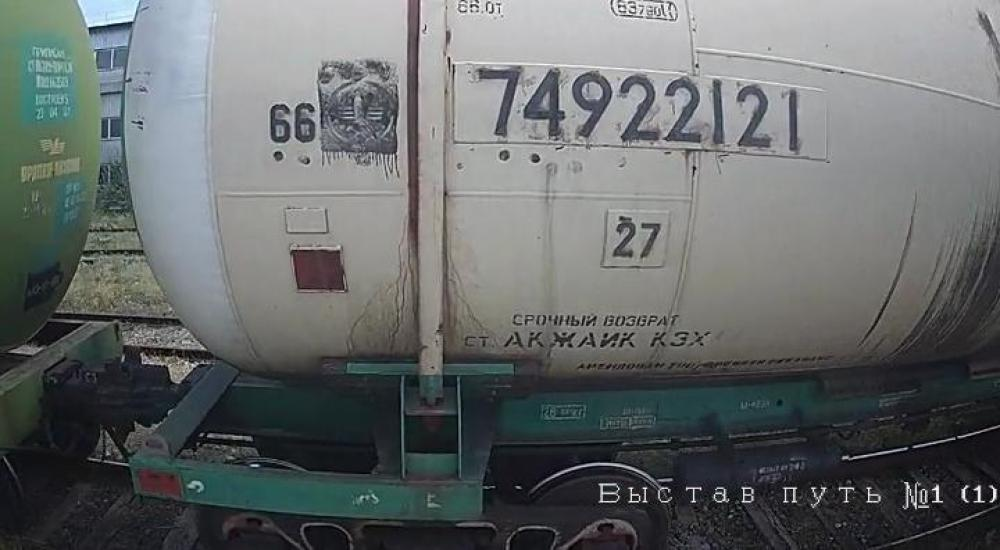Wagon-number: (470, 64, 809, 156)
